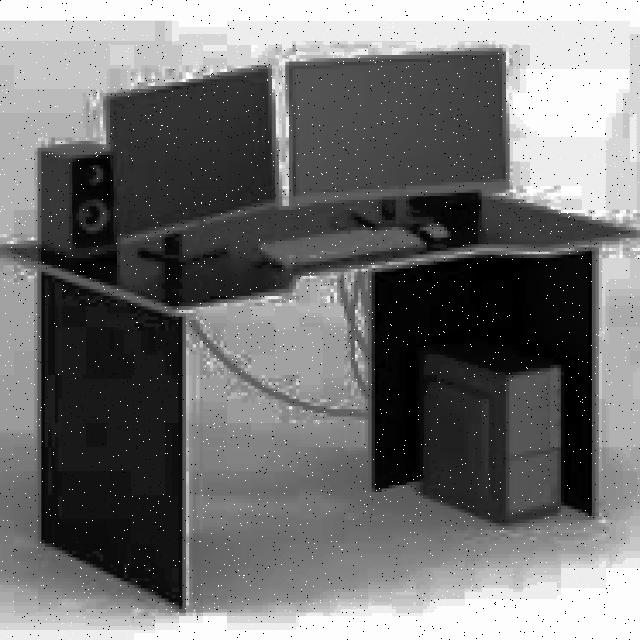table: (0, 186, 637, 609)
